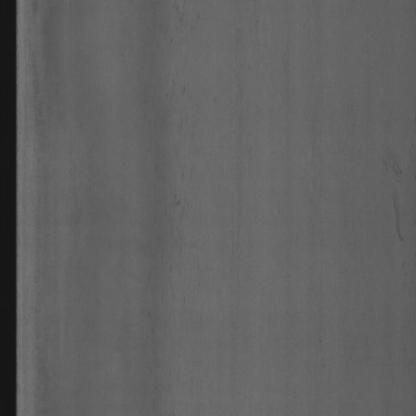water_spot: (374, 133, 404, 251)
